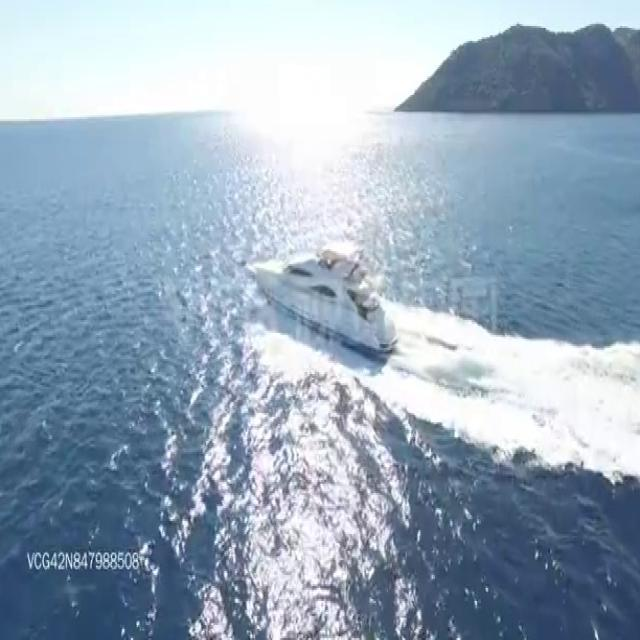houseboat: (254, 237, 397, 360)
